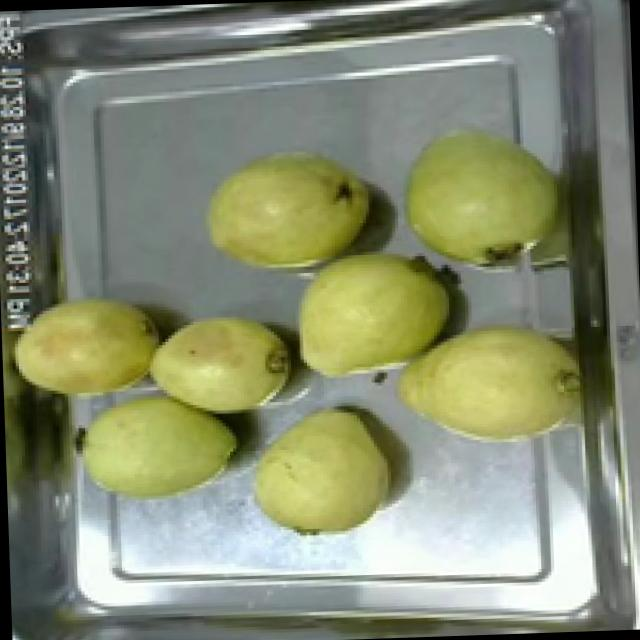Fruit: (390, 116, 565, 282), (387, 308, 578, 458), (279, 239, 460, 392), (195, 138, 379, 286), (64, 378, 246, 514), (240, 394, 398, 546), (0, 283, 173, 414), (137, 301, 301, 429)
